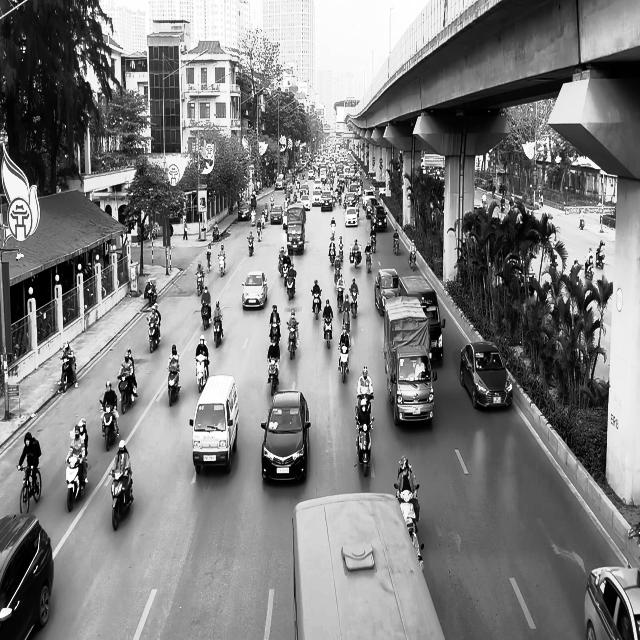car: (0, 512, 54, 640), (189, 375, 239, 474), (260, 389, 310, 483), (584, 566, 640, 640), (388, 344, 437, 426), (459, 342, 513, 409), (374, 267, 400, 316), (242, 270, 268, 310)
motorbike: (109, 466, 134, 530), (64, 455, 88, 512), (16, 464, 42, 514), (355, 408, 374, 476), (99, 399, 119, 451), (117, 374, 137, 414), (58, 355, 78, 393), (167, 366, 181, 407), (195, 355, 209, 393), (286, 321, 299, 359), (338, 343, 350, 384), (267, 356, 279, 396), (147, 317, 160, 353), (212, 314, 224, 347), (322, 316, 332, 348), (311, 290, 321, 320), (200, 302, 210, 330), (584, 258, 594, 279), (196, 273, 204, 296), (596, 247, 604, 269), (218, 254, 225, 276), (247, 235, 254, 256), (409, 249, 416, 270), (206, 251, 212, 273), (393, 236, 399, 255)
